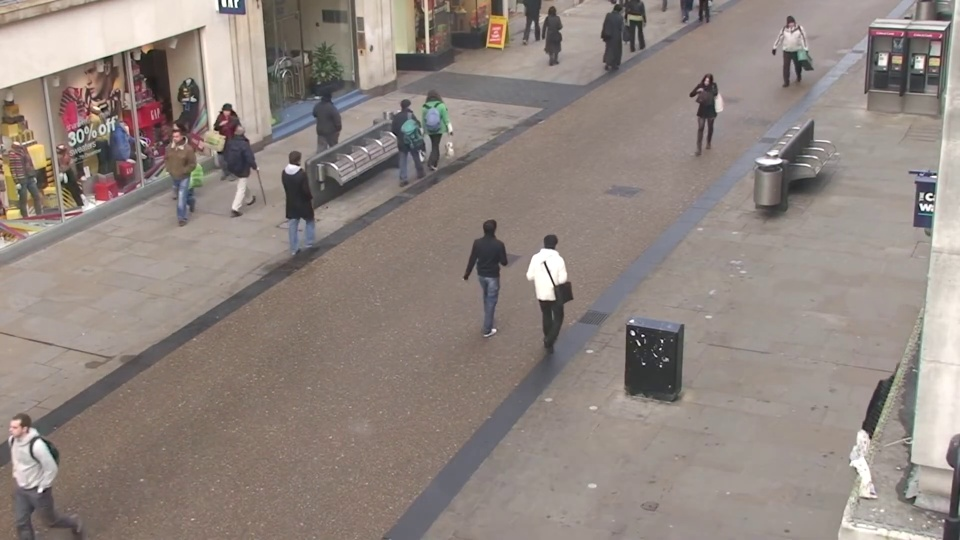pedestrian: (477, 210, 517, 332), (537, 222, 576, 347), (287, 144, 325, 247), (154, 120, 194, 215), (156, 126, 196, 221), (232, 116, 268, 210), (206, 105, 242, 195), (397, 93, 428, 182), (319, 85, 351, 171), (422, 81, 452, 167), (689, 73, 718, 157), (773, 15, 801, 85), (542, 4, 564, 69), (607, 1, 629, 65)
